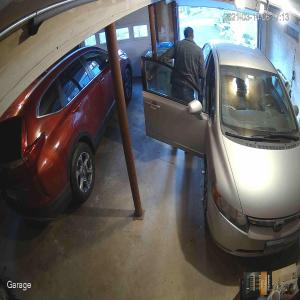garbage bin: (142, 39, 175, 114)
honda civic: (197, 40, 300, 261)
honda crv: (0, 43, 134, 227)
person: (146, 26, 206, 162)
